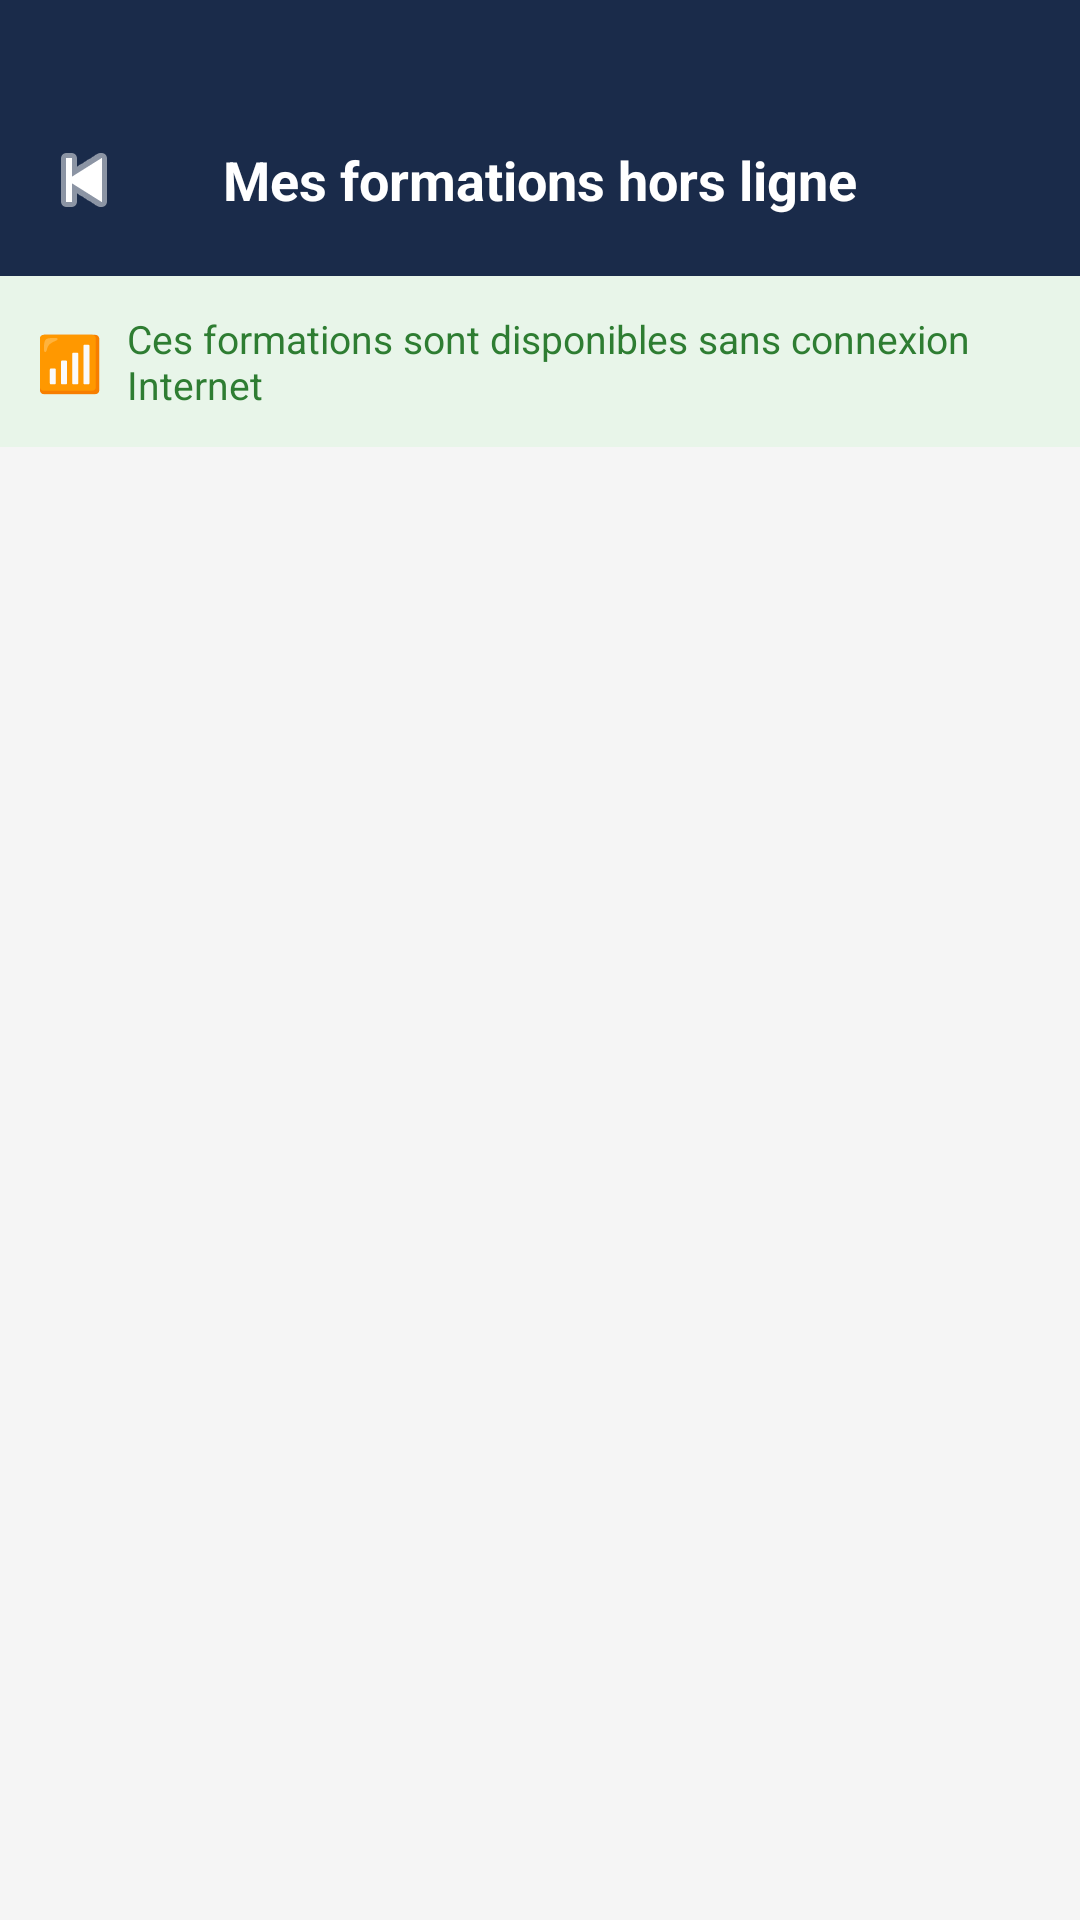

Icon bounding boxes for this 1080px×1920px phone screenshot, format {"left": x1, "top": y1, "right": x2, "bottom": y2}:
Retour: {"left": 61, "top": 153, "right": 107, "bottom": 207}
